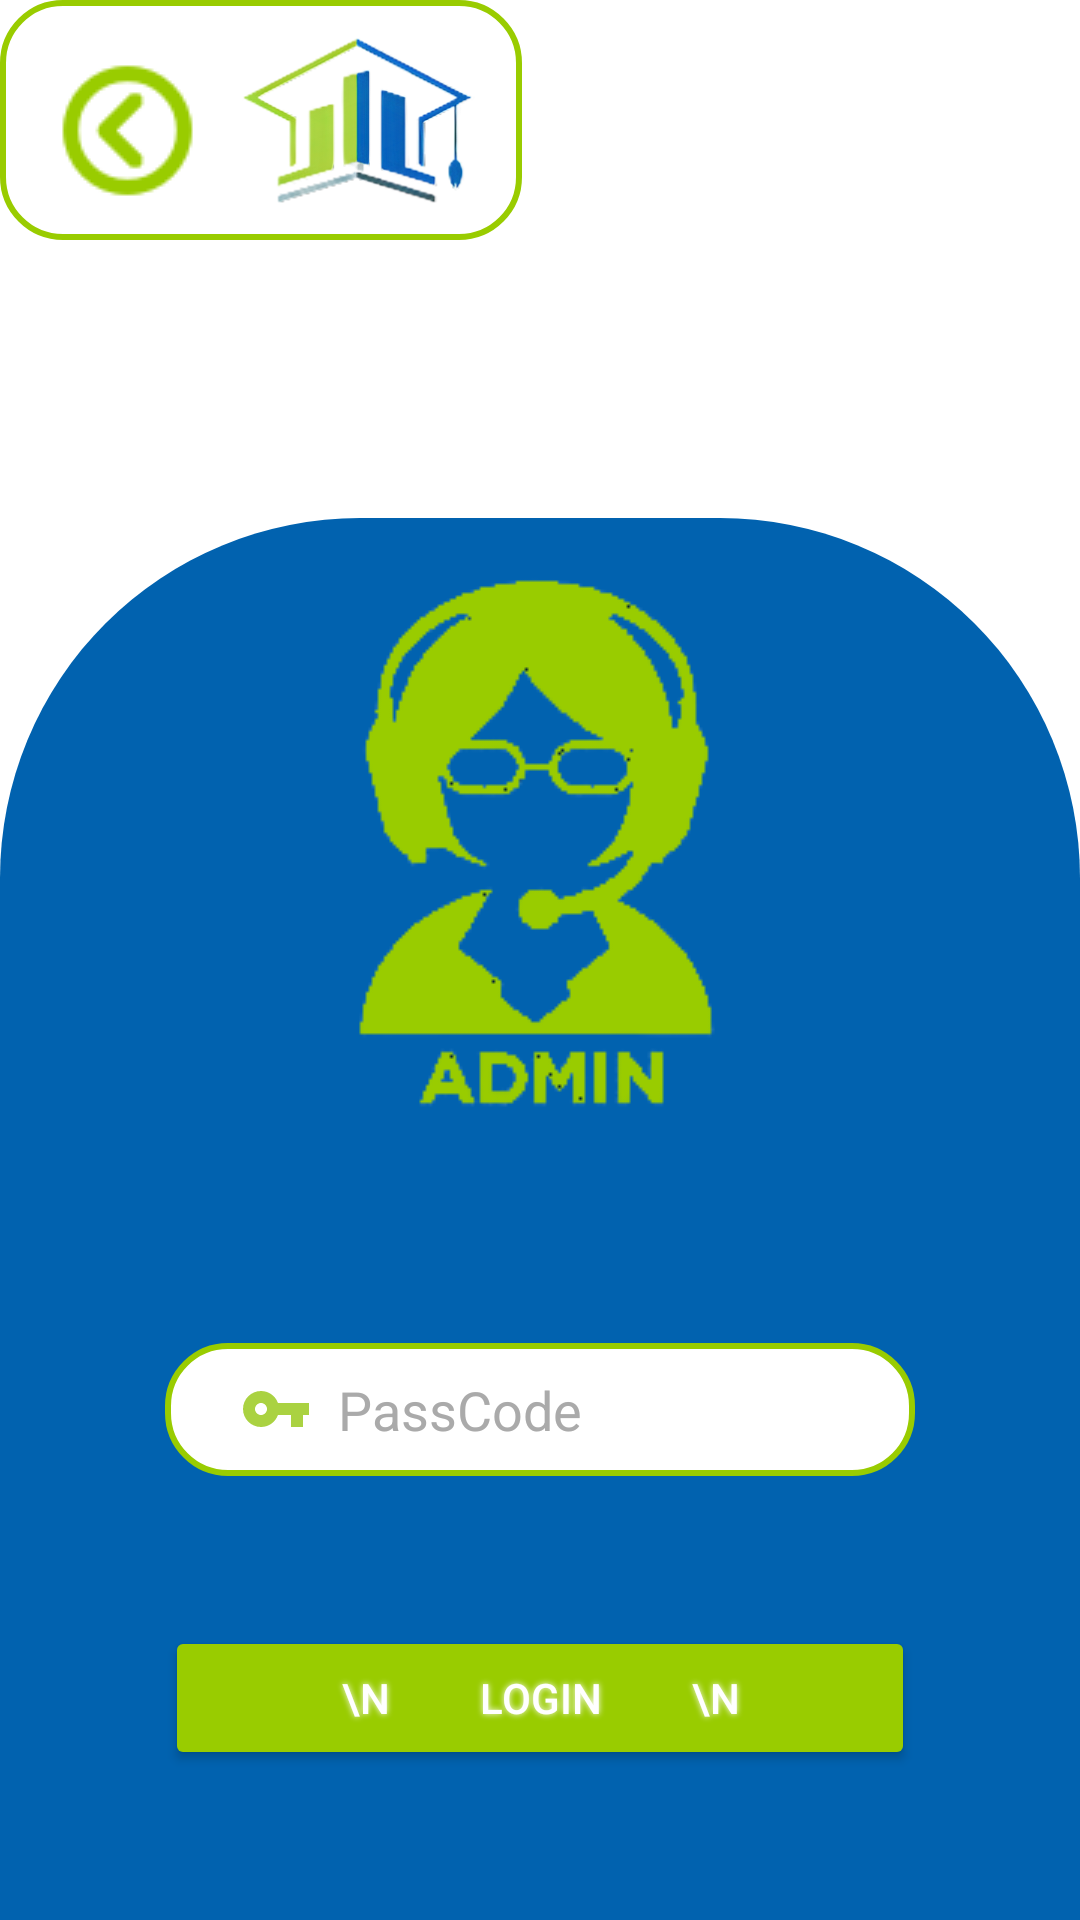

Where to tap for icons on this 1080w x 1920h app screen, as (x,y):
back: (127,130)
